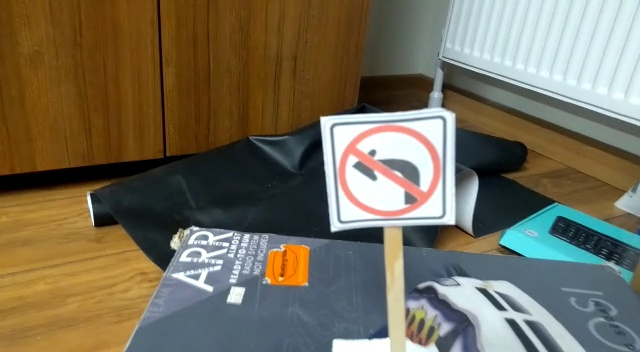sola_donulmez: (334, 119, 444, 225)
